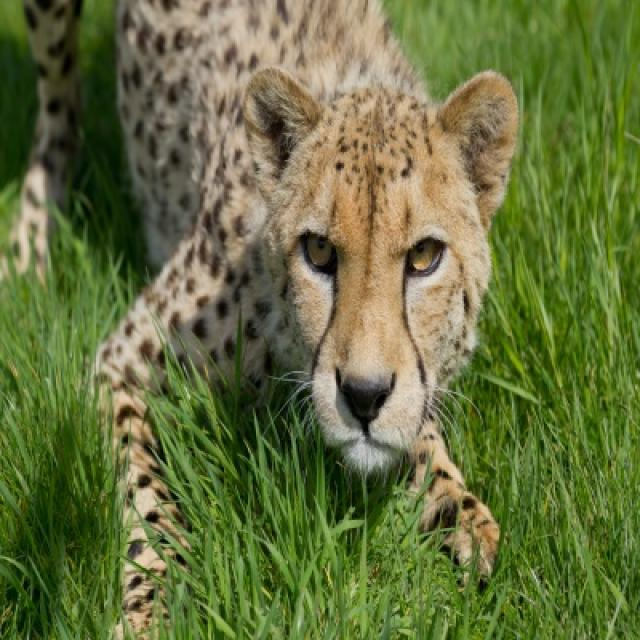Cheetah: (83, 3, 525, 636)
